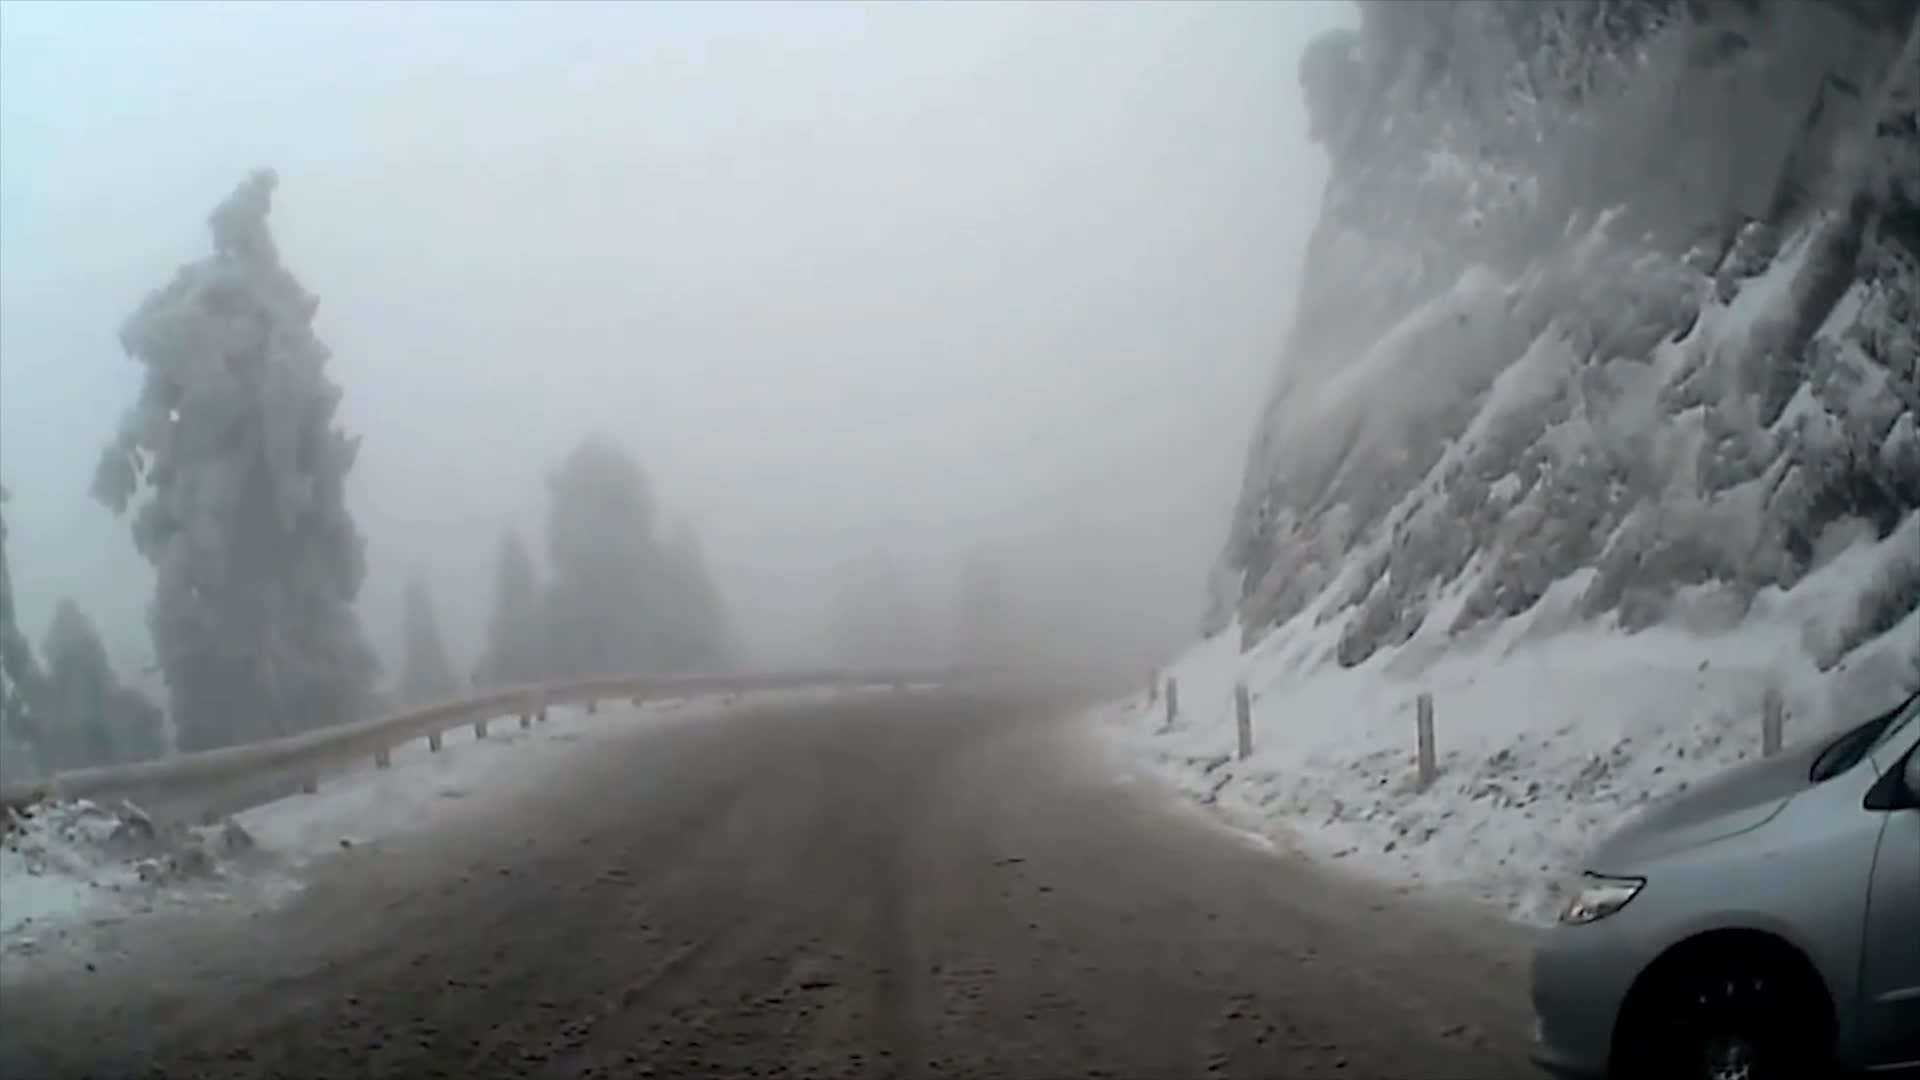vehicle: (1528, 682, 1920, 1079)
